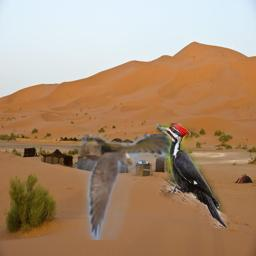Cuckoo: (67, 134, 177, 240)
Woodpecker: (156, 123, 227, 228)
